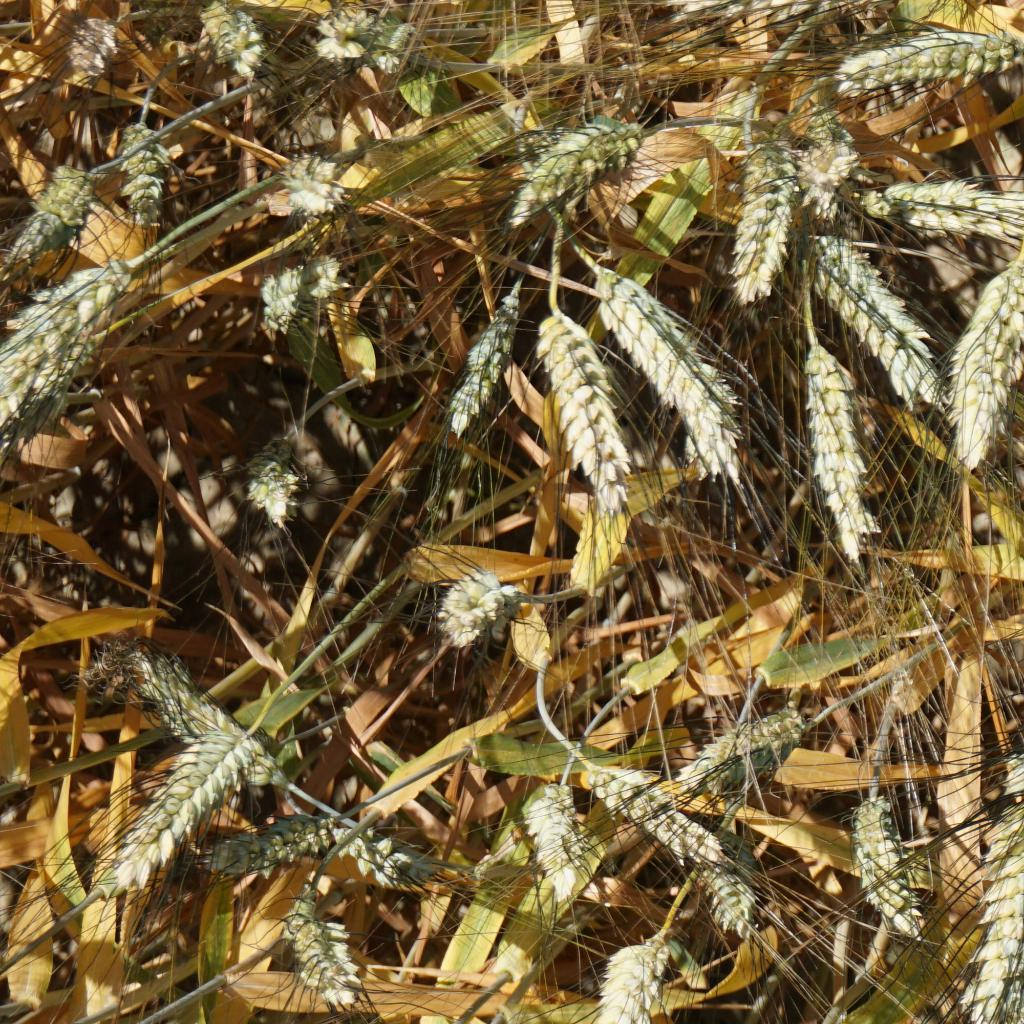0-0: (105, 628, 285, 793), (590, 275, 740, 466), (799, 330, 891, 578), (99, 738, 224, 904), (819, 232, 935, 395), (835, 775, 933, 943), (537, 313, 628, 488), (868, 157, 1024, 258), (509, 106, 649, 214), (666, 712, 827, 804), (9, 262, 120, 388), (830, 21, 1024, 86), (204, 799, 360, 879), (965, 262, 1024, 466), (444, 305, 527, 427), (314, 7, 435, 89), (275, 896, 374, 994), (602, 761, 698, 858), (516, 783, 592, 903), (720, 132, 775, 297), (696, 841, 779, 949), (986, 801, 1024, 1024), (338, 807, 429, 898), (791, 110, 862, 226), (419, 555, 500, 646), (188, 0, 277, 78), (592, 929, 665, 1024), (263, 246, 352, 323), (271, 145, 352, 222), (114, 120, 179, 212), (11, 173, 90, 246), (242, 464, 314, 525), (992, 710, 1024, 779)
